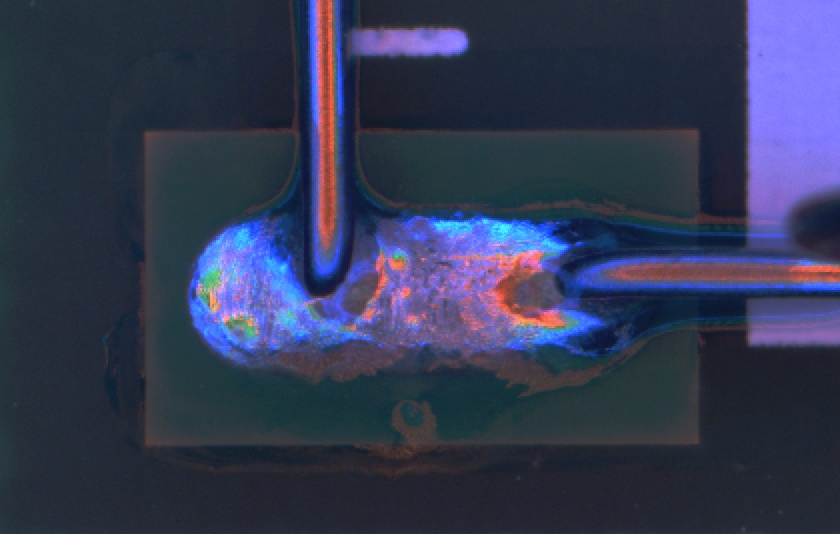spring: (299, 1, 355, 306), (544, 245, 838, 302)
spring_pin: (186, 213, 654, 379)
